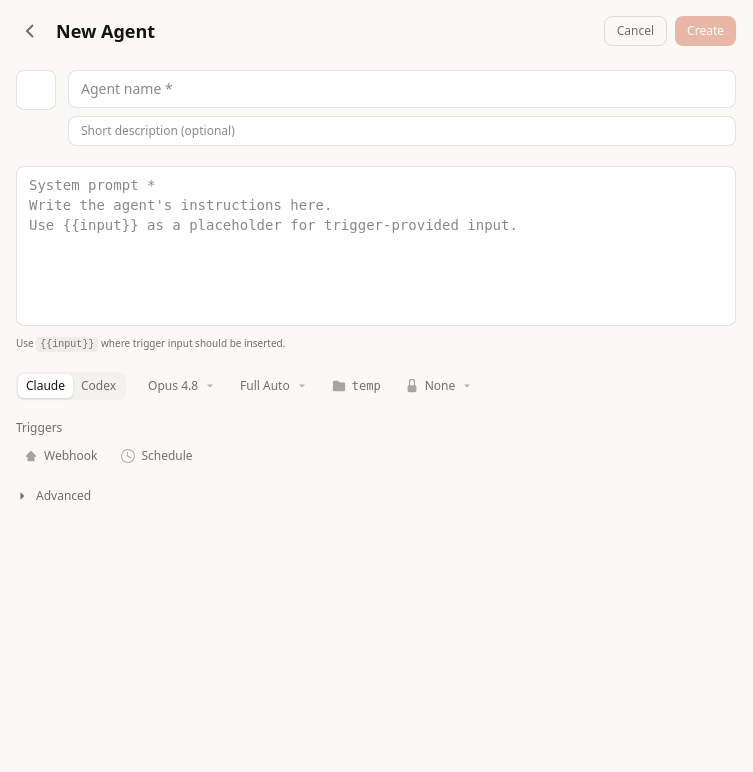
Scenario: AgentEditor › shows URL input when MCP form type is changed to HTTP
Click the button "Advanced": [64, 496] box [16,488,736,504]
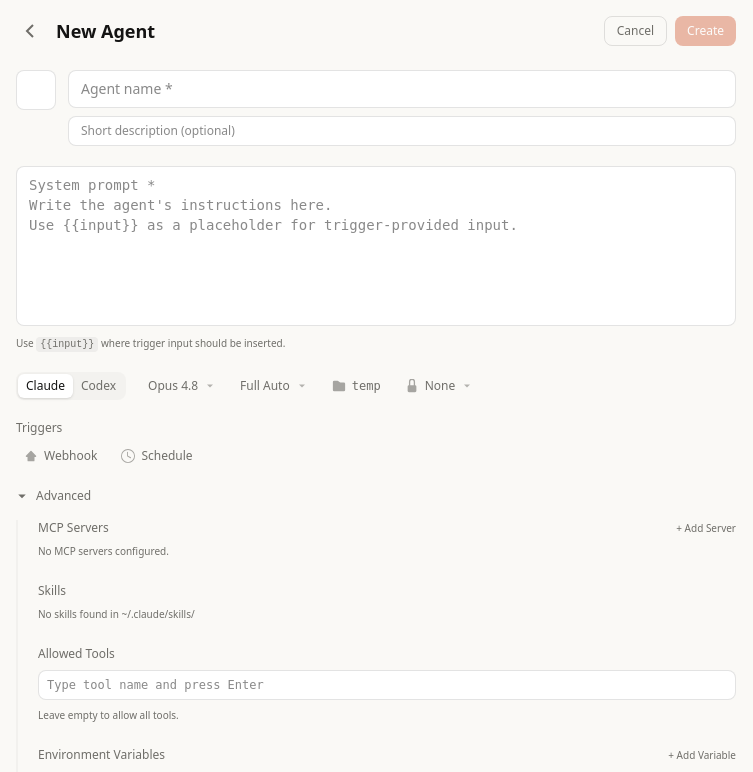
Click the button "+ Add Server": [706, 528] box [676,520,736,536]
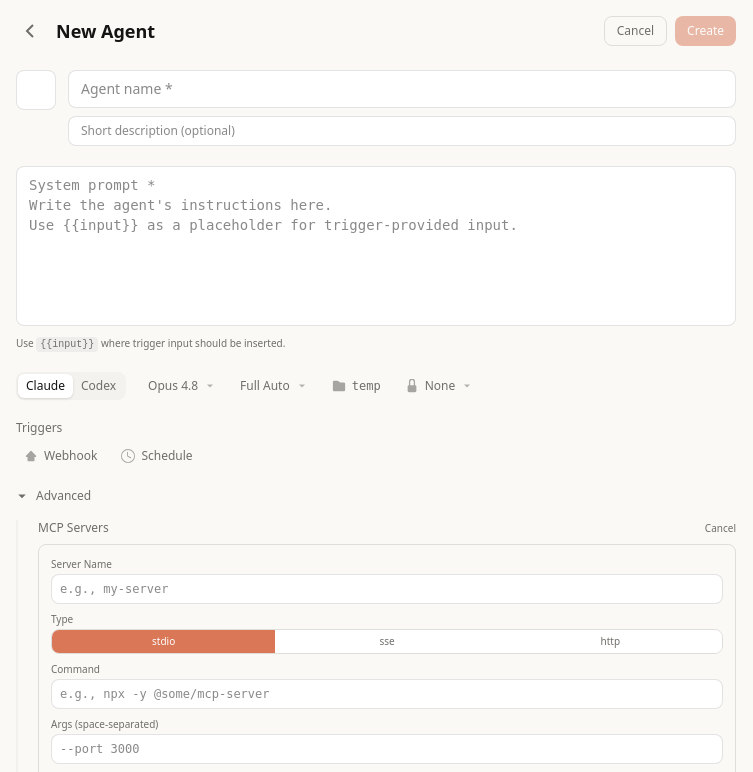
Click the button "http": [610, 642] box [499,630,722,653]
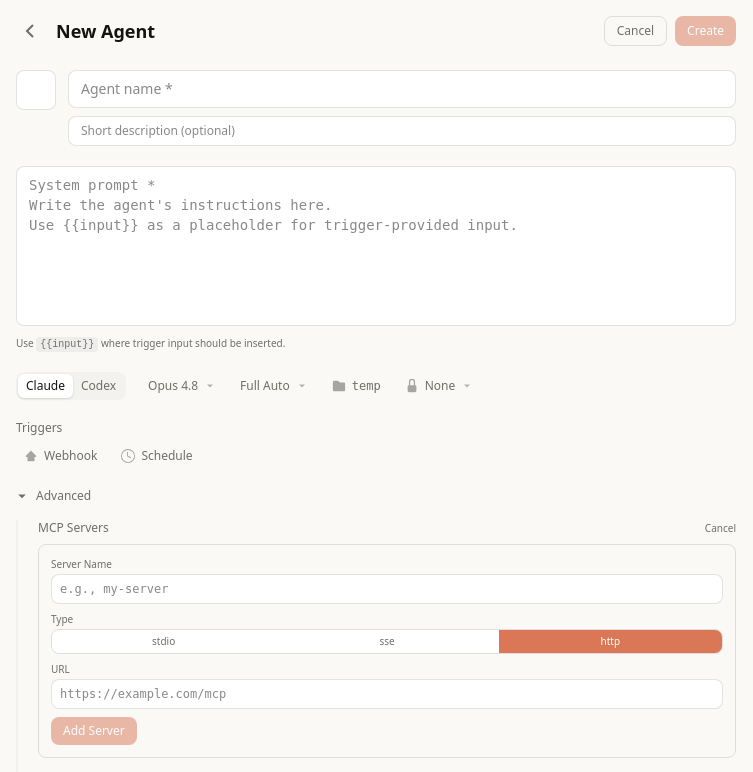
Expected: the field with placeholder "https://example.com/mcp" is shown, [51,679,723,709]
